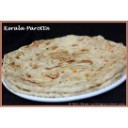parota: (8, 35, 126, 88)
